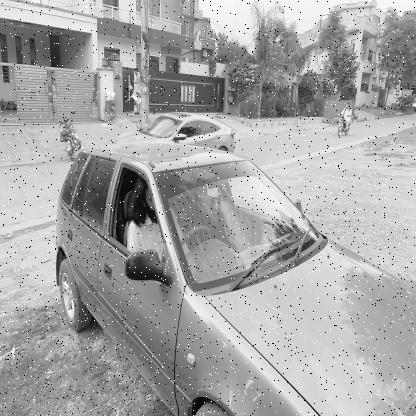no_seatbelt: (130, 178, 156, 254)
